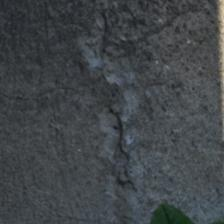Crack: (103, 101, 141, 197), (95, 7, 117, 94)
